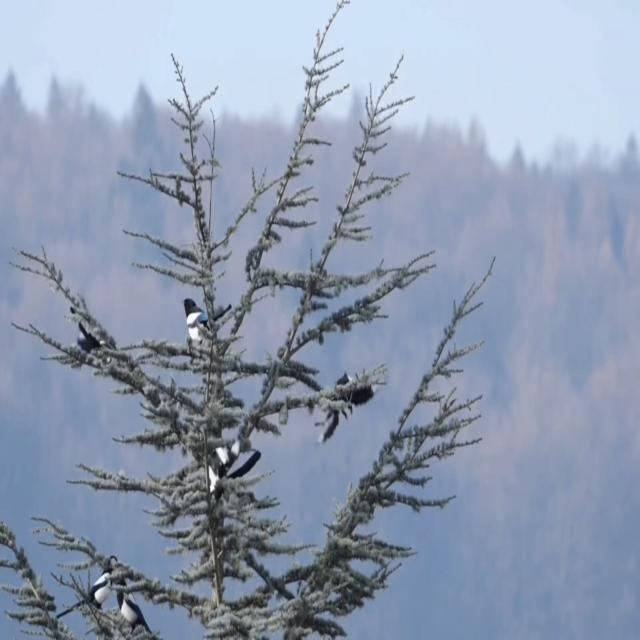bird: (316, 344, 383, 453), (170, 280, 246, 364), (65, 295, 121, 374), (200, 433, 256, 511), (61, 554, 126, 620), (114, 572, 151, 638)
